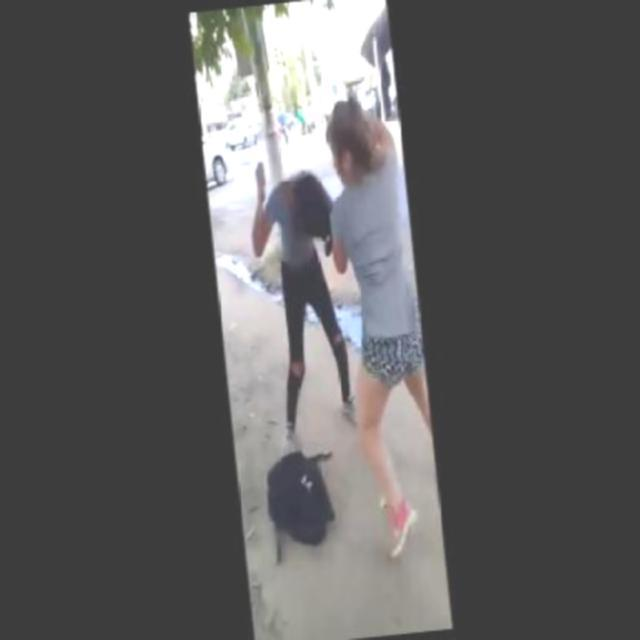fight: (235, 91, 418, 352)
